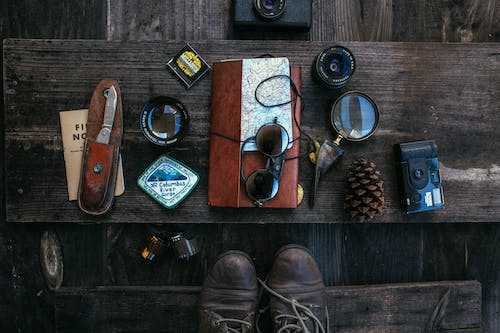knife: (92, 83, 120, 145)
